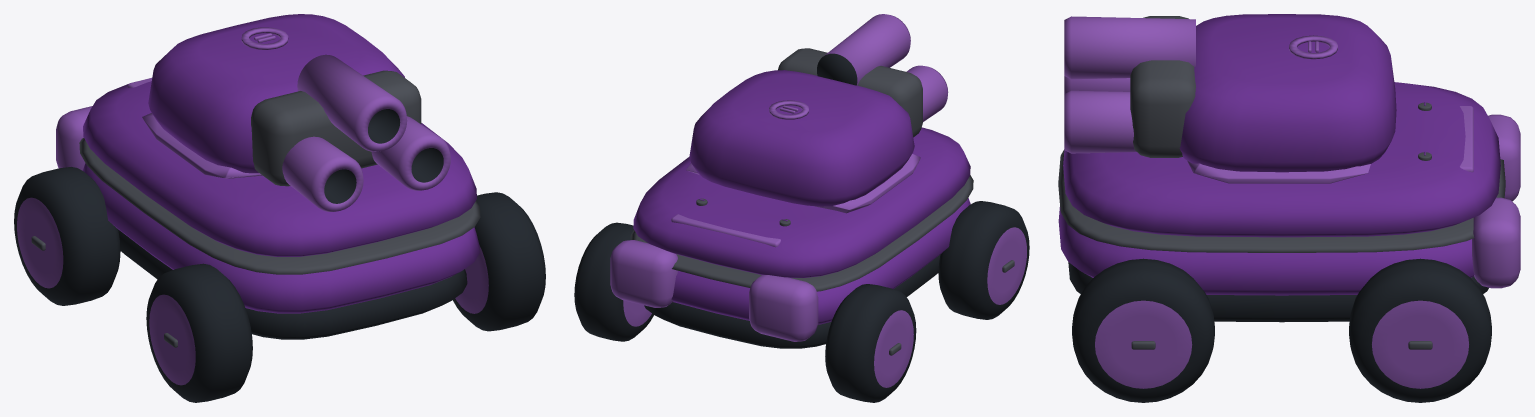
File: TOY_SWARMER.hi.glb
The picture shows the model from 3 angles, left to right: view 1: azimuth 30°, elevation 25°; view 2: azimuth 150°, elevation 25°; view 3: azimuth 270°, elevation 25°; orthographic projection. The views are drawn at different scales.
Visible parts, largest first — view 1: Body, WheelsFront, BarrelRecoil, TurretYaw, WheelsRear; view 2: Body, TurretYaw, WheelsRear, WheelsFront, BarrelRecoil; view 3: Body, TurretYaw, BarrelRecoil, WheelsFront, WheelsRear.
Boxes of the visible parts, left/top/right/bottom form: Body: left=56, top=78, right=480, bottom=339; WheelsFront: left=146, top=192, right=545, bottom=402; BarrelRecoil: left=251, top=54, right=450, bottom=211; TurretYaw: left=142, top=14, right=404, bottom=178; WheelsRear: left=14, top=167, right=120, bottom=305; Body: left=610, top=127, right=973, bottom=348; TurretYaw: left=686, top=70, right=920, bottom=213; WheelsRear: left=574, top=222, right=916, bottom=402; WheelsFront: left=938, top=201, right=1029, bottom=319; BarrelRecoil: left=778, top=14, right=948, bottom=137; Body: left=1058, top=82, right=1520, bottom=322; TurretYaw: left=1179, top=14, right=1396, bottom=183; BarrelRecoil: left=1064, top=16, right=1195, bottom=157; WheelsFront: left=1072, top=258, right=1214, bottom=402; WheelsRear: left=1349, top=258, right=1491, bottom=402.
Bounding box in the file's own units: 0.748 × 0.581 × 0.8077.
